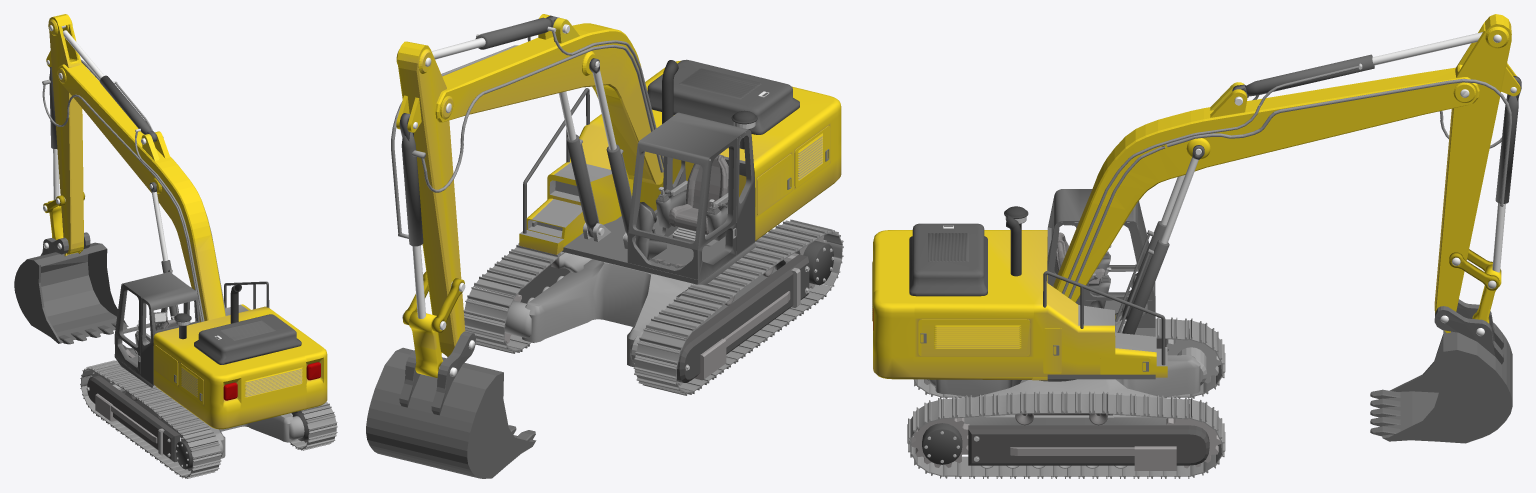
Rendered from exc_one.glb.
The picture shows the model from 3 angles, left to right: view 1: azimuth 30°, elevation 25°; view 2: azimuth 150°, elevation 25°; view 3: azimuth 270°, elevation 25°; orthographic projection. The views are drawn at different scales.
Parts seen in each view (by area): view 1: New_Game_Object (×22); view 2: New_Game_Object (×41); view 3: New_Game_Object (×26).
Boxes of the visible parts, box(x1,y1,x2,y2) form: New_Game_Object (×22): box(14, 14, 327, 469); New_Game_Object (×41): box(366, 15, 841, 478); New_Game_Object (×26): box(873, 14, 1521, 470).
Size of the model in its own units: 14.33 by 27.58 by 39.06.
